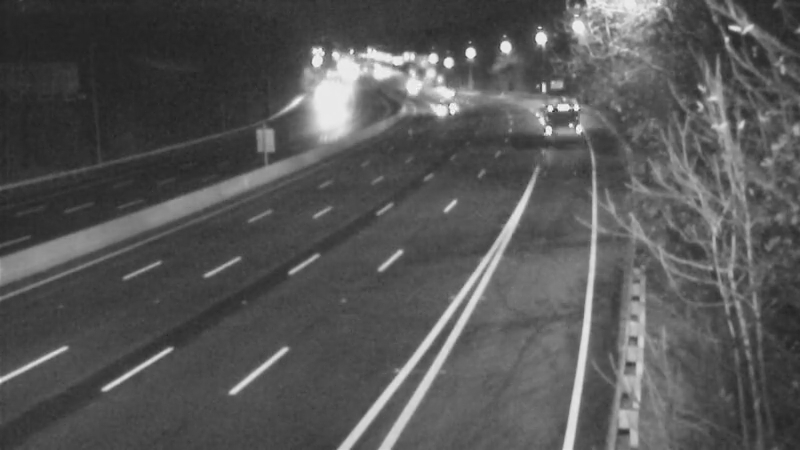vehicle: (417, 65, 467, 115), (423, 69, 473, 119), (414, 83, 464, 133), (524, 84, 574, 134)
